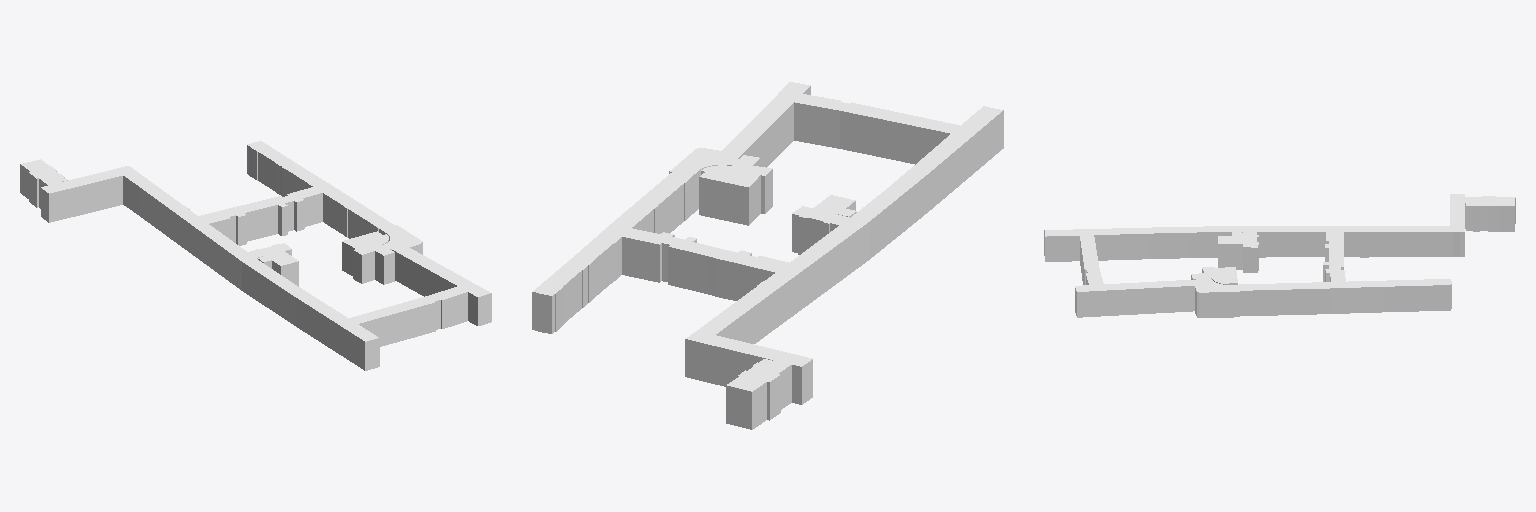
URDF robot description (collidor_928_and_957):
<?xml version="1.0"?>

<robot name="collidor_928_and_957">
  <link name="map">
    <visual>
      <origin xyz="-8.03 24.3 0" rpy="0 0 3.12"/>
      <geometry>
        <mesh filename="package://tms_rc_qurin_support/urdf/collidor_928_and_957.stl" scale="1.0 1.0 1.0"/>
      </geometry>
      <material name="red">
        <color rgba="1.0 1.0 1.0 0.5"/>
      </material>
    </visual>
  </link>
</robot>

--- Facts derived from the render (not from the file) ---
Views: 3 orthographic renders of the robot side by side, from view 1: azimuth 30°, elevation 25°; view 2: azimuth 150°, elevation 25°; view 3: azimuth 270°, elevation 25°.
Model collidor_928_and_957 with 1 links and 0 joints (none), rooted at map, posed every joint at zero.
Links seen in each view (by area): view 1: map; view 2: map; view 3: map.
Boxes of the visible links, left/top/right/bottom form: map: left=20, top=141, right=491, bottom=370; map: left=532, top=82, right=1003, bottom=429; map: left=1044, top=194, right=1515, bottom=317.
Bounding box of the posed robot: 33.17 × 66.58 × 4 m (x, y, z).
1 mesh visuals loaded from 1 distinct referenced files (1 binary STL).